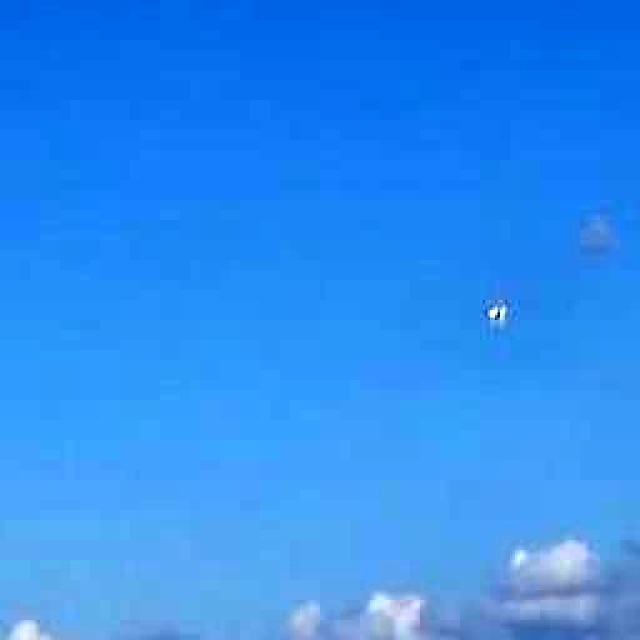bird: (450, 279, 575, 359)
